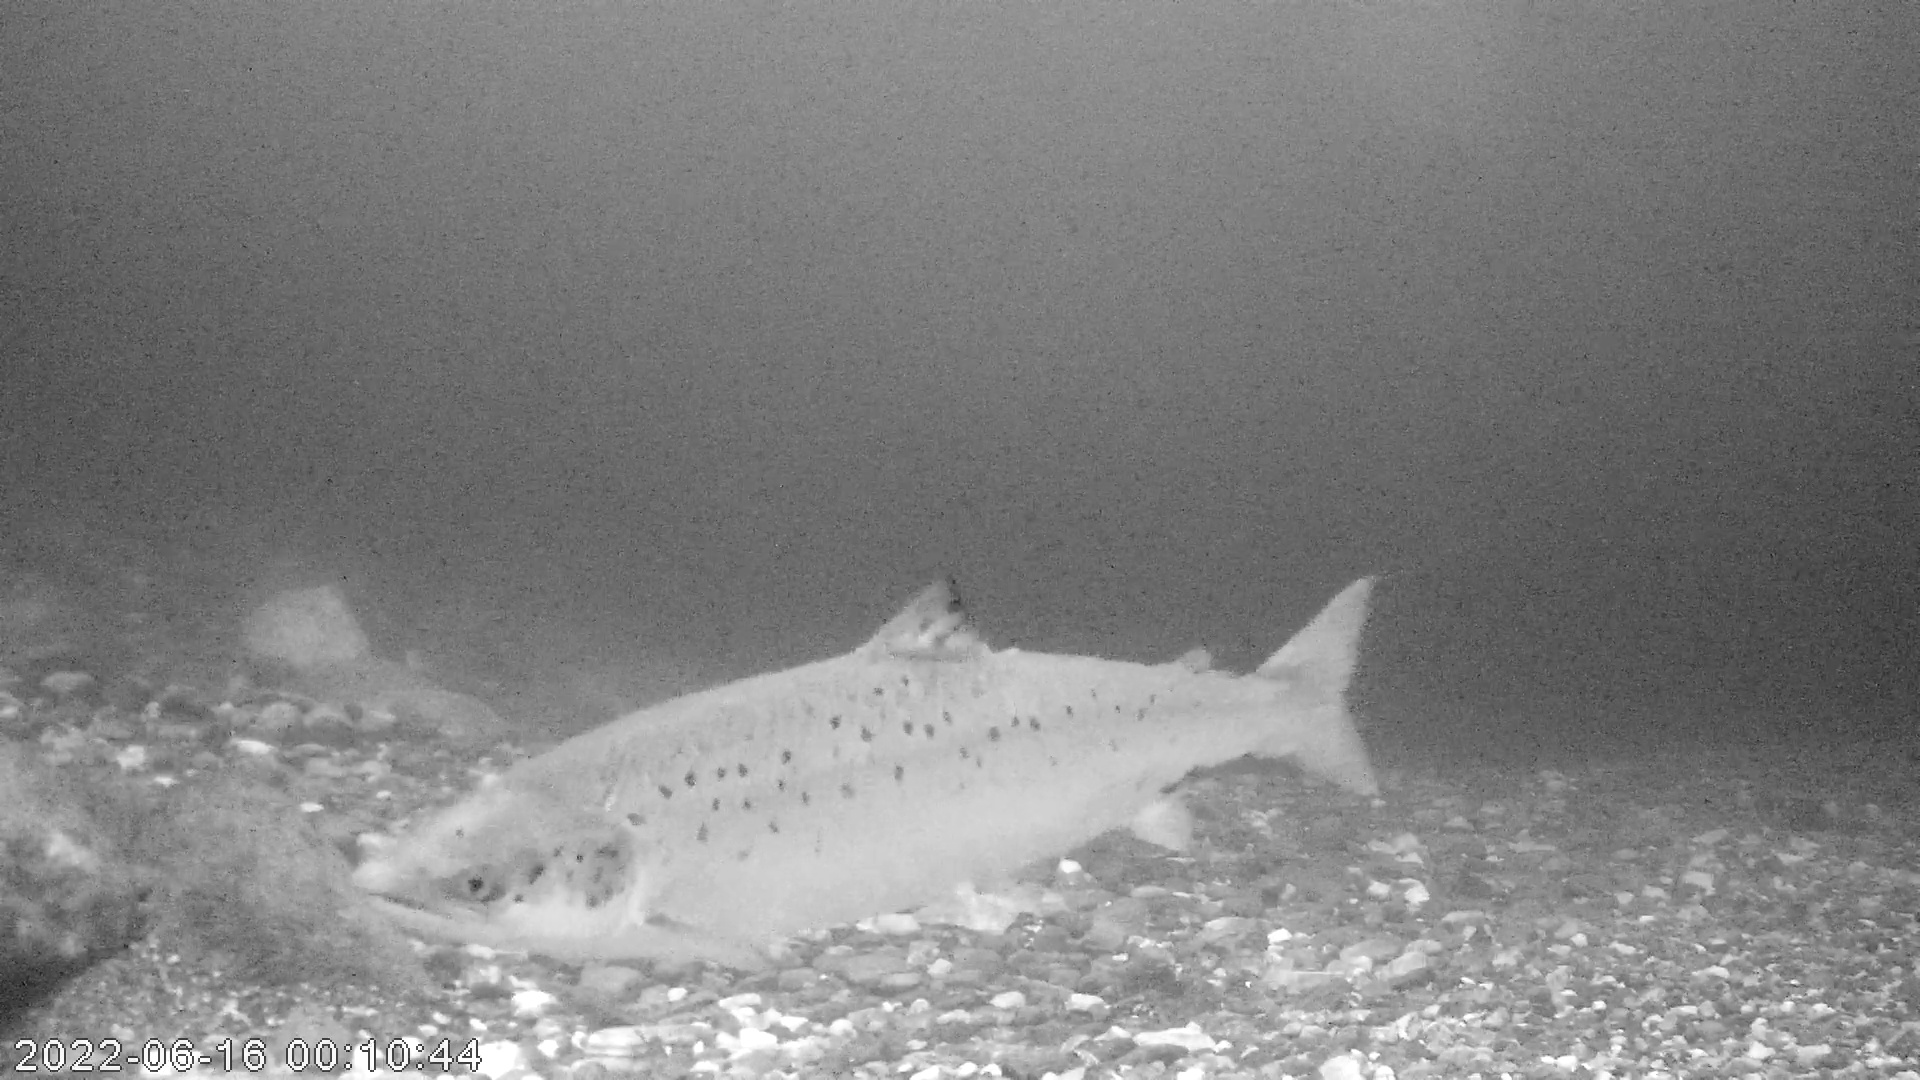salmon: (352, 568, 1385, 978)
